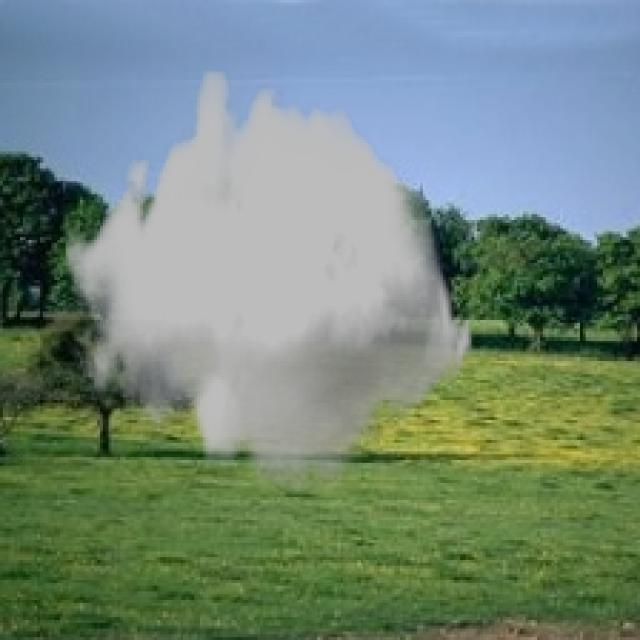Smoke: (62, 71, 474, 488)
